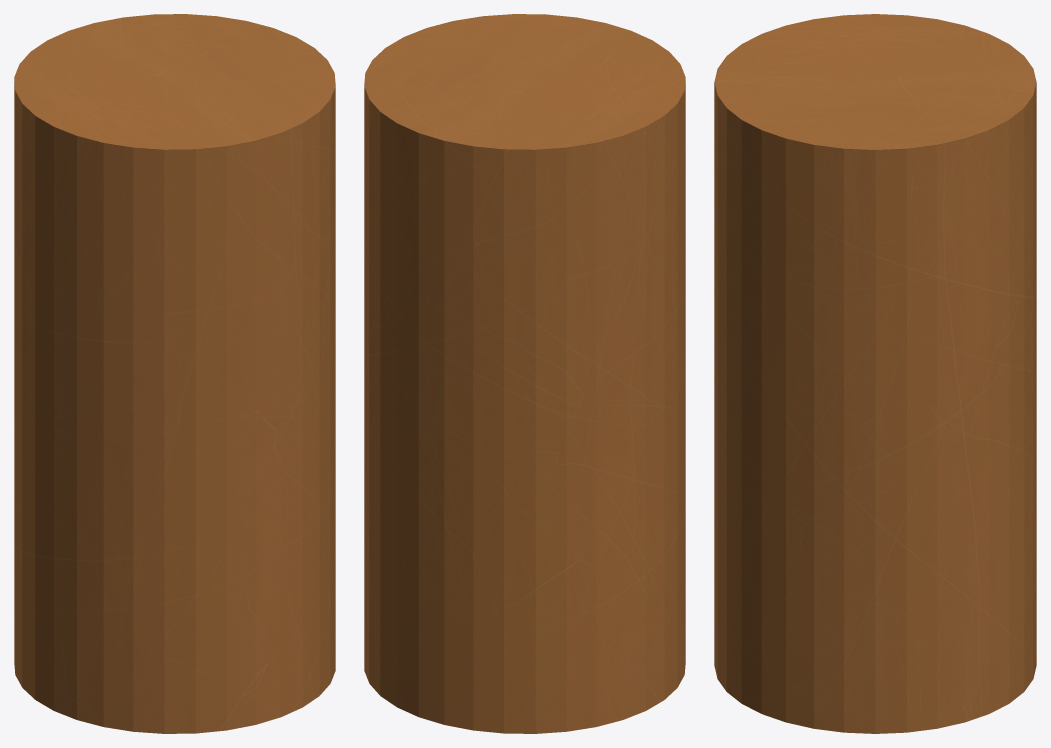
Rendered from chilinder.fbx.
3 renders of one model, left to right at view 1: azimuth 30°, elevation 25°; view 2: azimuth 150°, elevation 25°; view 3: azimuth 270°, elevation 25°, orthographic.
Visible parts, largest first — view 1: Cylinder.001; view 2: Cylinder.001; view 3: Cylinder.001.
Boxes of the visible parts, bbox=[...] form: Cylinder.001: bbox=[14, 14, 335, 733]; Cylinder.001: bbox=[364, 14, 685, 733]; Cylinder.001: bbox=[714, 14, 1036, 733].
Bounding box in the file's own units: 200 × 400 × 200.
1 material, 1 textured.
